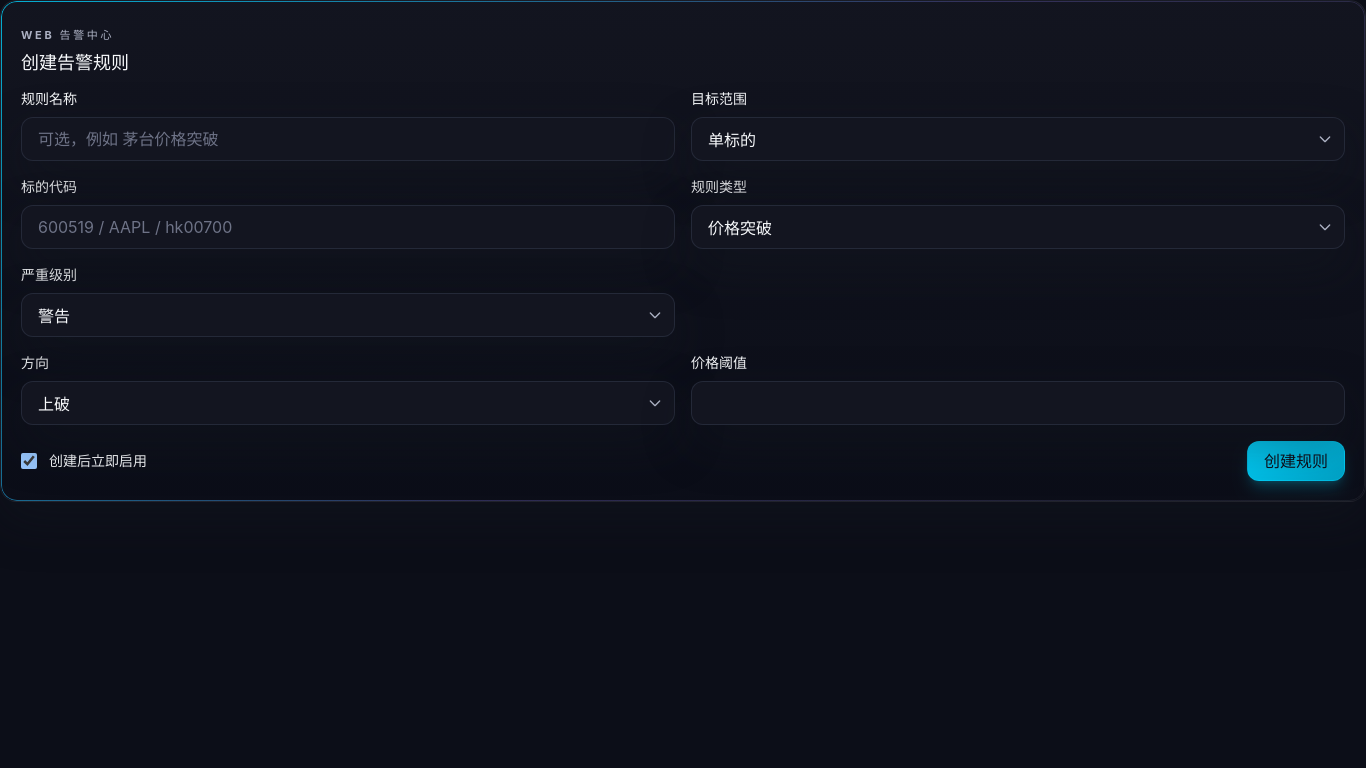
Test: AlertRuleForm › rejects indicator period combinations that exceed fetchable history
Type "600519" into the field labelled "标的代码".
click(348, 227); type("600519")  # box [21, 205, 675, 249]
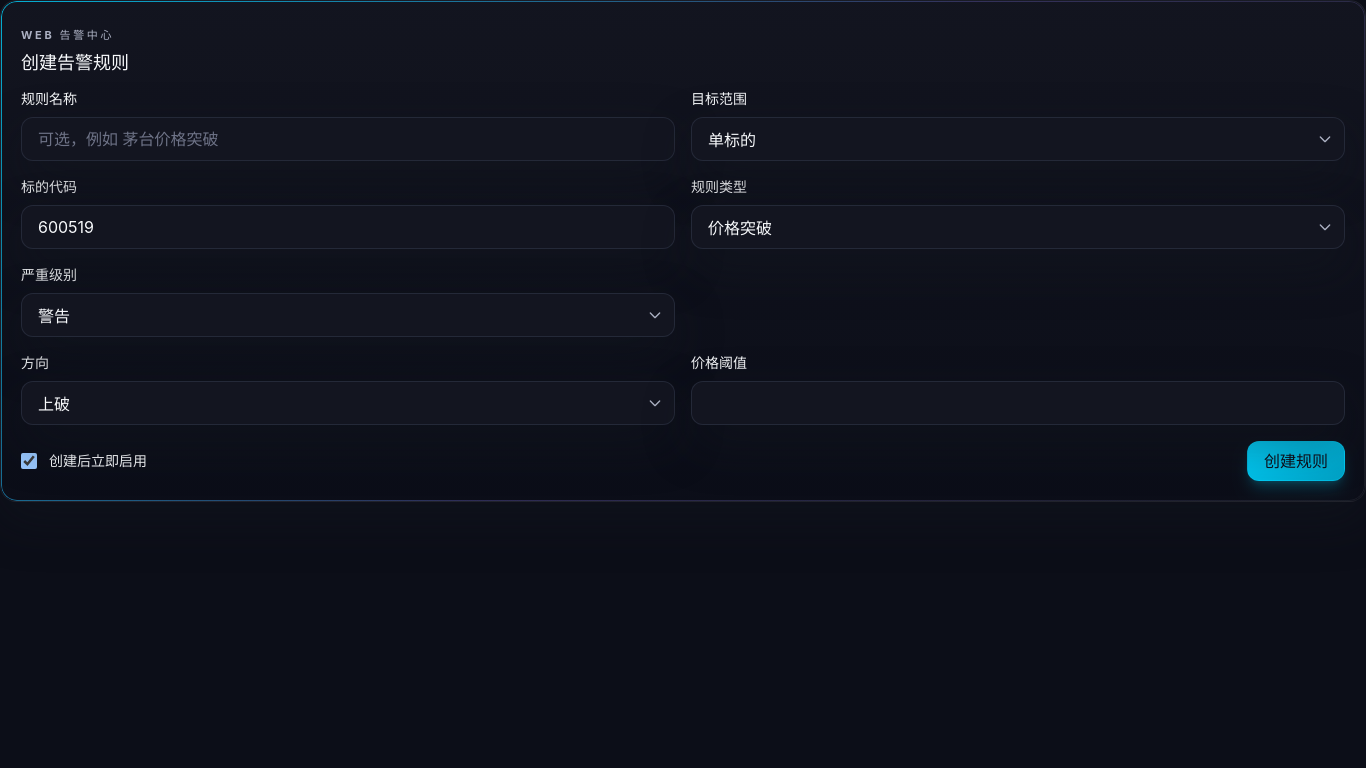
Select "MACD 金叉/死叉" in the dropdown labelled "规则类型" at coordinates (1018, 227), box [691, 205, 1345, 249]
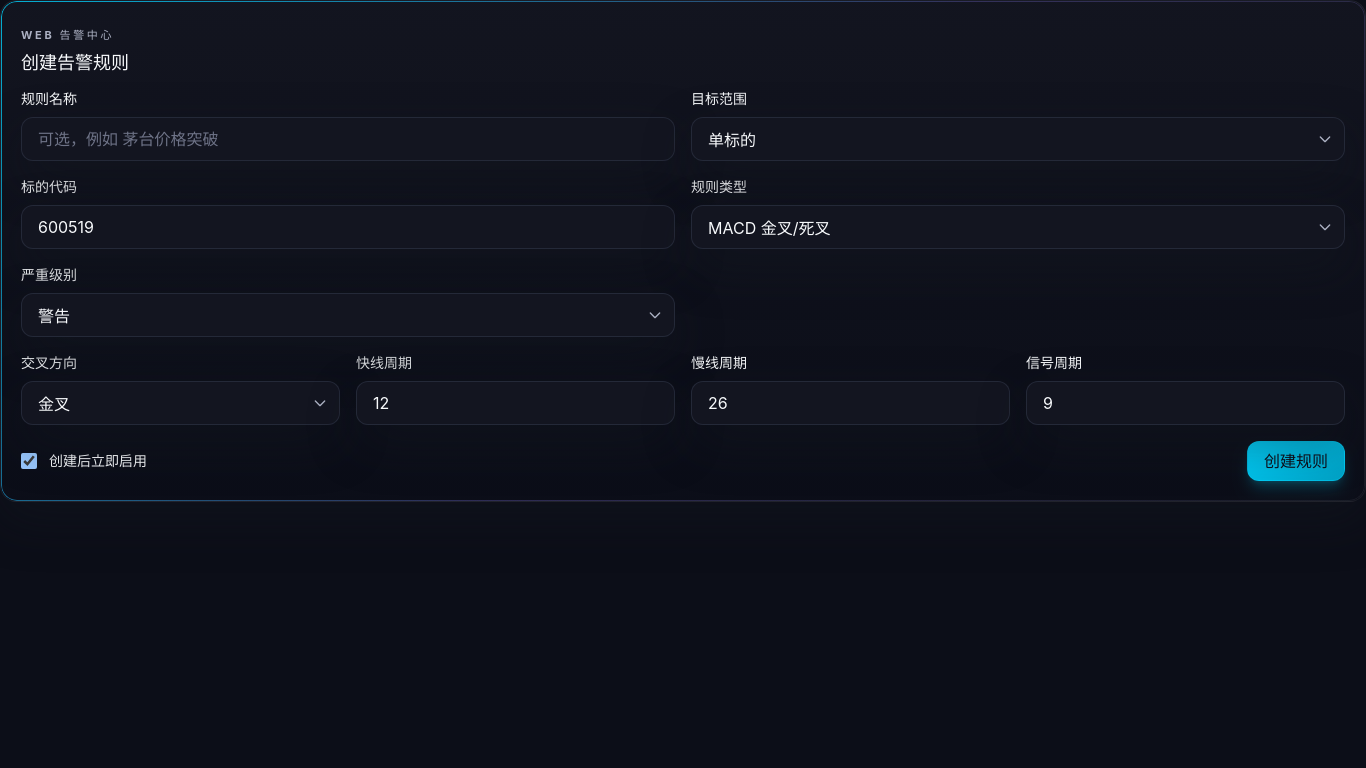
Replace the text in the number field labelled "快线周期" with "2" at coordinates (516, 403), box [356, 381, 675, 425]
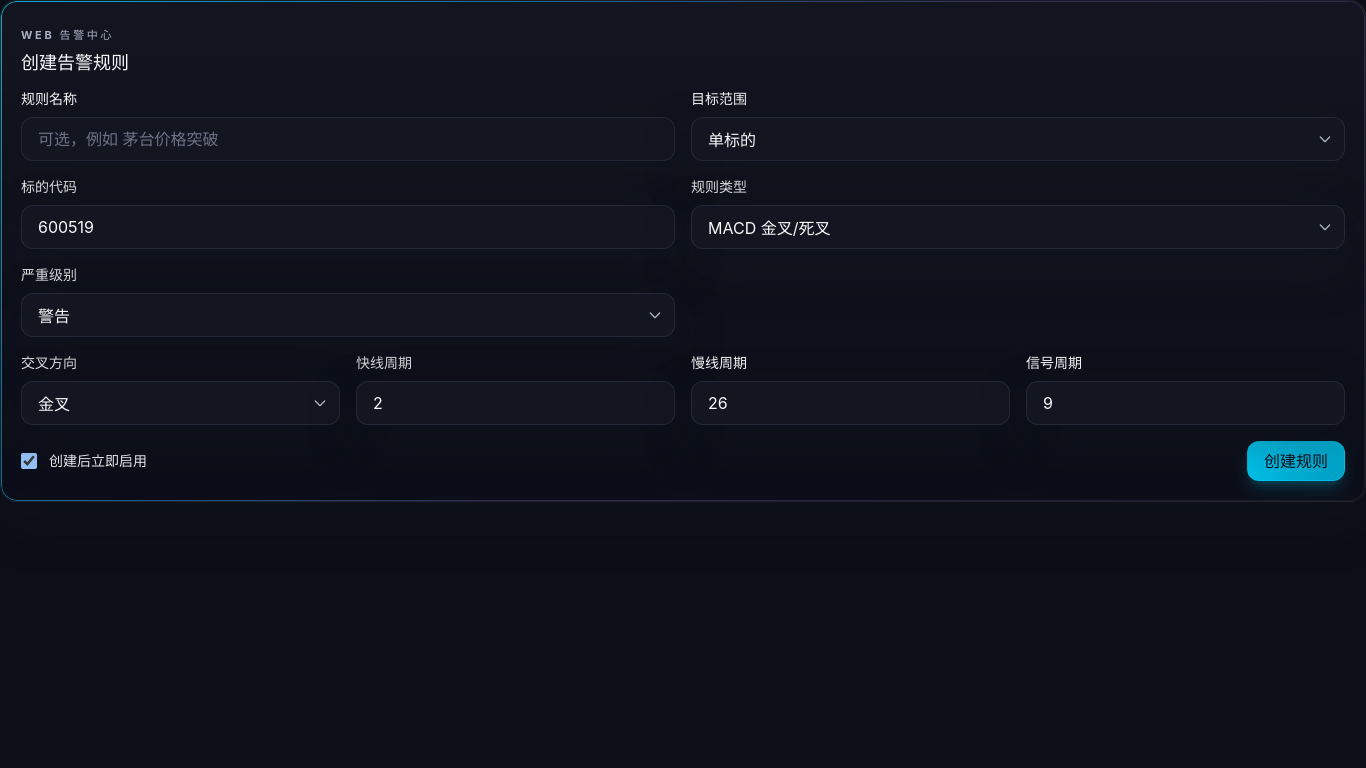
Replace the text in the number field labelled "慢线周期" with "250" at coordinates (850, 403), box [691, 381, 1010, 425]
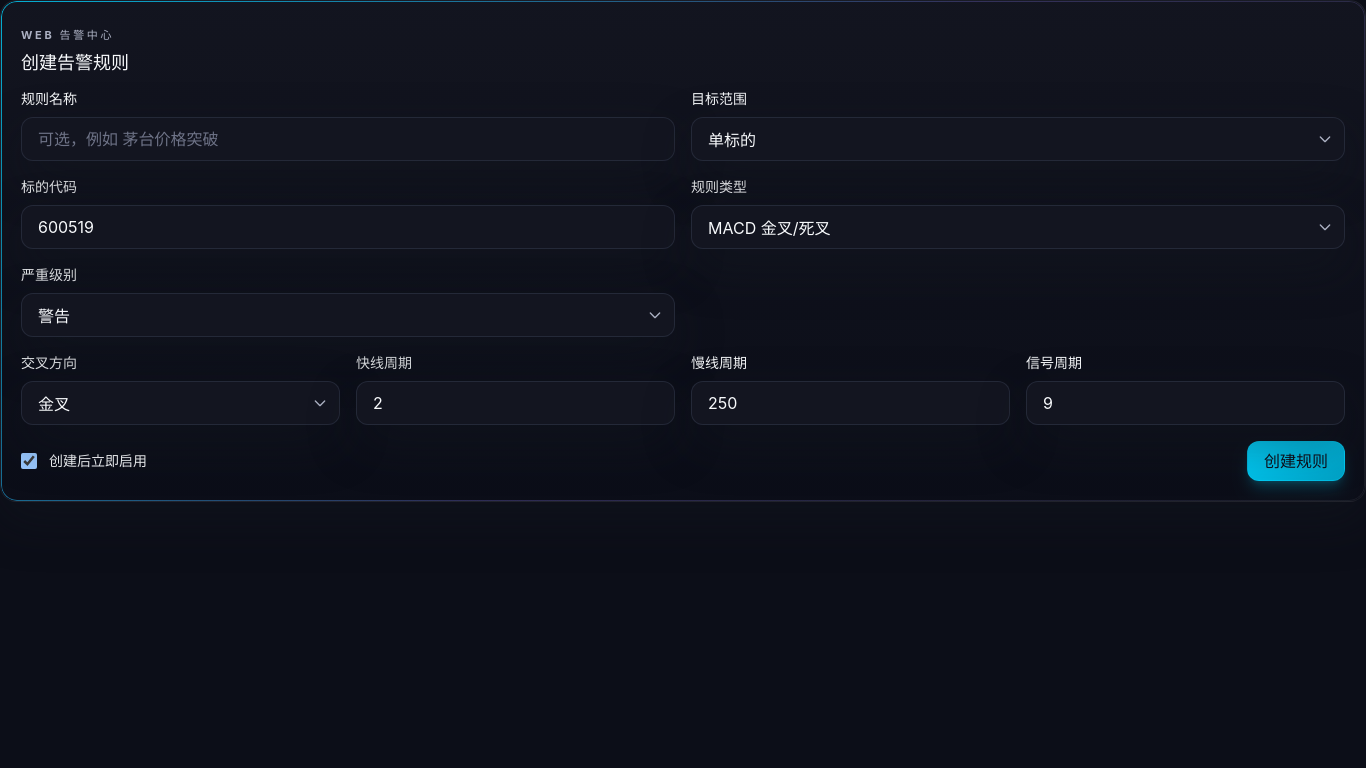
Replace the text in the number field labelled "信号周期" with "250" at coordinates (1186, 403), box [1026, 381, 1345, 425]
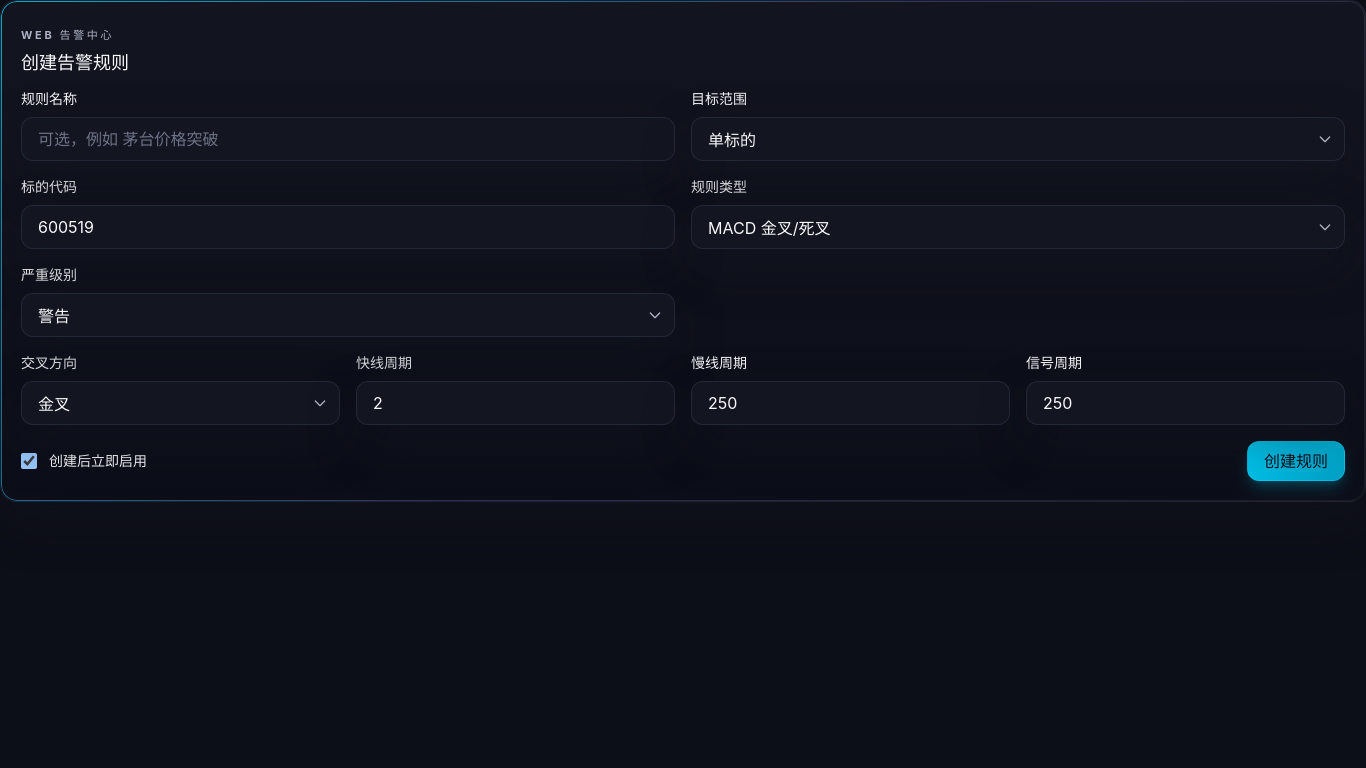
Click the button "创建规则".
click(1296, 461)  # box [1247, 441, 1345, 481]
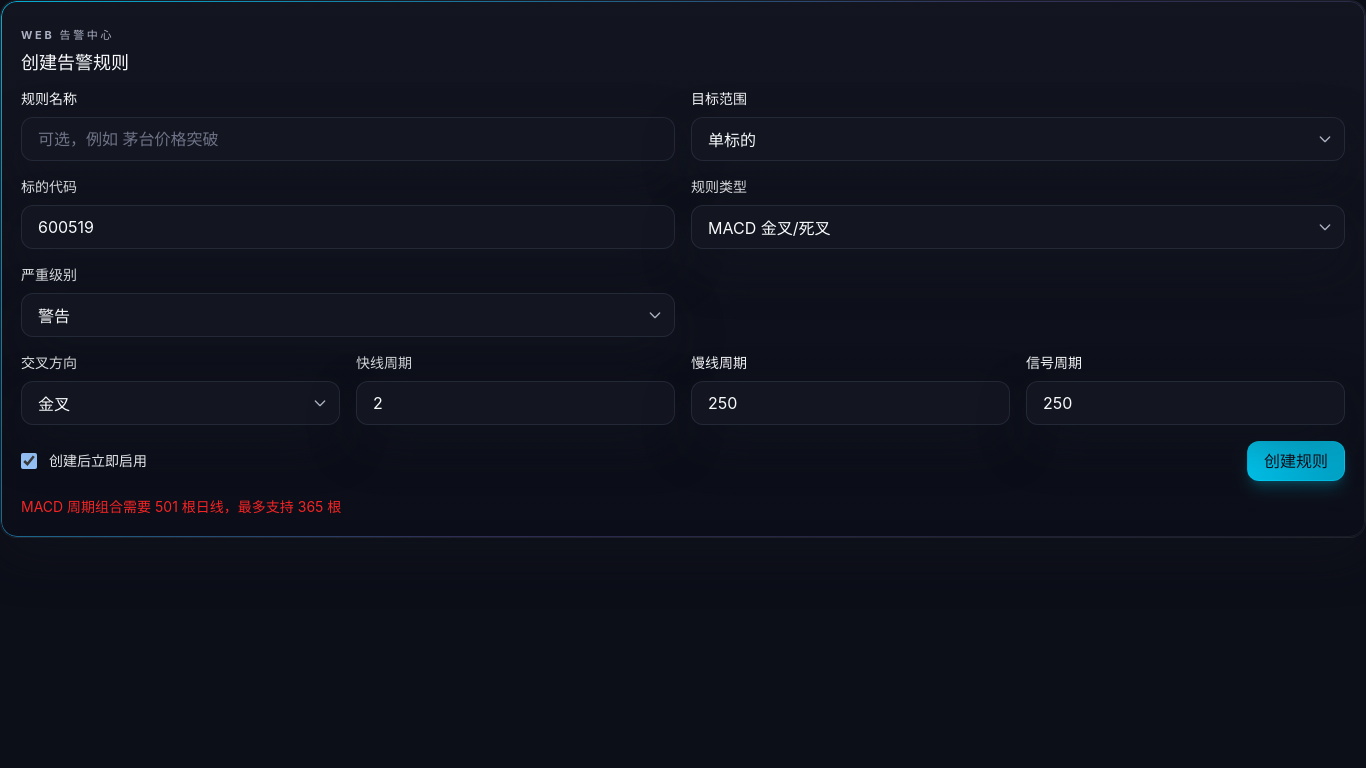
expect the message reads "MACD 周期组合需要 501 根日线，最多支持 365 根": met, box [21, 498, 341, 515]
